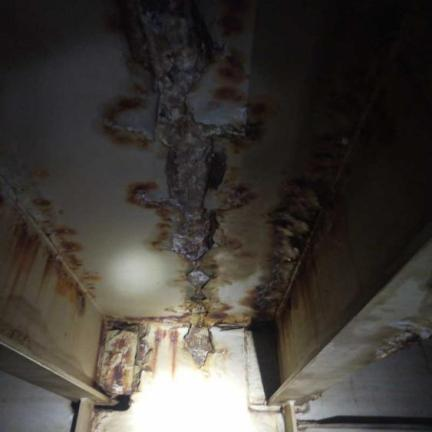besi_tidak_karat: (0, 0, 191, 318), (0, 0, 188, 317), (185, 0, 335, 318), (189, 0, 255, 126)
karat: (127, 0, 242, 262), (171, 212, 216, 260), (184, 325, 213, 367), (186, 268, 209, 302)
